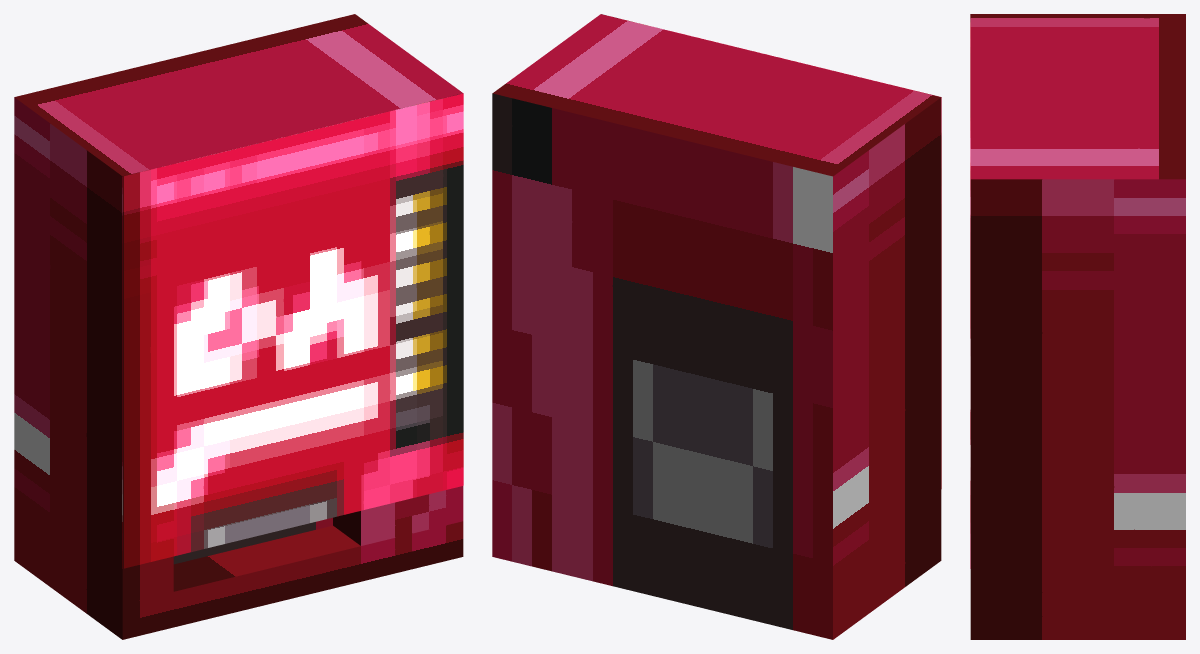
File: vending_red_cola.glb
3 views of the same model, side by side, from view 1: azimuth 30°, elevation 25°; view 2: azimuth 150°, elevation 25°; view 3: azimuth 270°, elevation 25° (orthographic).
Visible parts, largest first — view 1: vending_red_cola, vending_red_cola_Cabinet, vending_red_cola_Delivery_Flap; view 2: vending_red_cola_Cabinet, vending_red_cola; view 3: vending_red_cola_Cabinet, vending_red_cola.
Boxes of the visible parts, box(x1,y1,x2,y2) form: vending_red_cola: box(122, 93, 463, 568); vending_red_cola_Cabinet: box(14, 14, 463, 639); vending_red_cola_Delivery_Flap: box(173, 517, 332, 564); vending_red_cola_Cabinet: box(492, 14, 941, 639); vending_red_cola: box(601, 14, 941, 488); vending_red_cola_Cabinet: box(970, 14, 1185, 639); vending_red_cola: box(970, 14, 970, 568).
Size of the model in its own units: 1.2 by 1.56 by 0.662.
3 materials, 3 textured.
